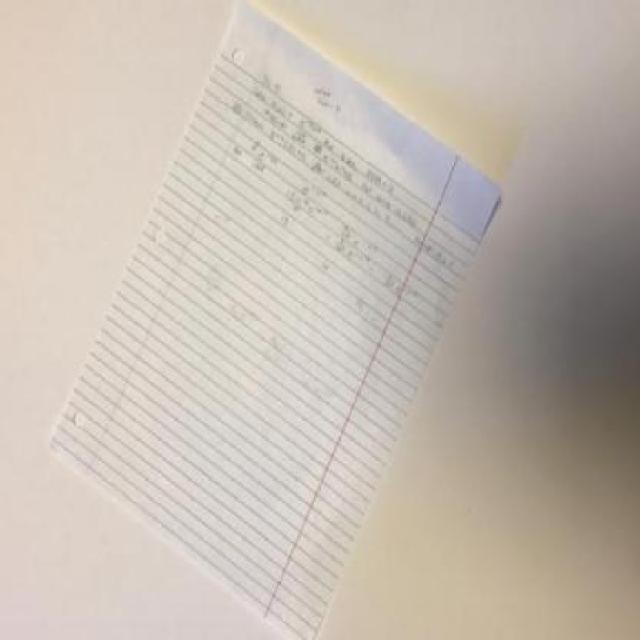PAPER: (48, 3, 498, 639)
